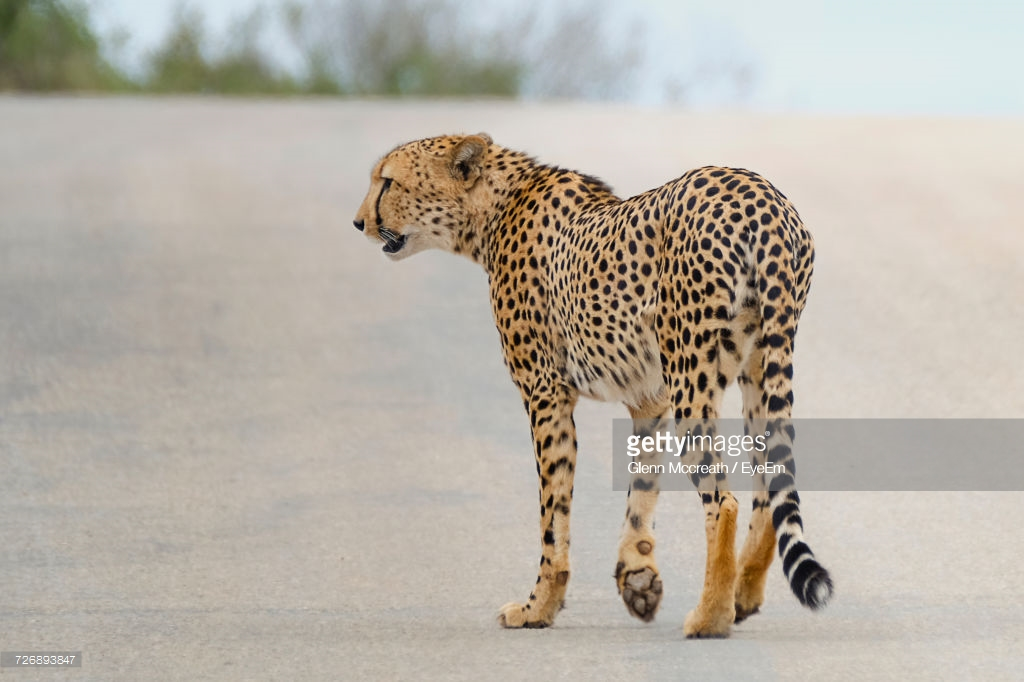Cheetah: (347, 120, 845, 639)
